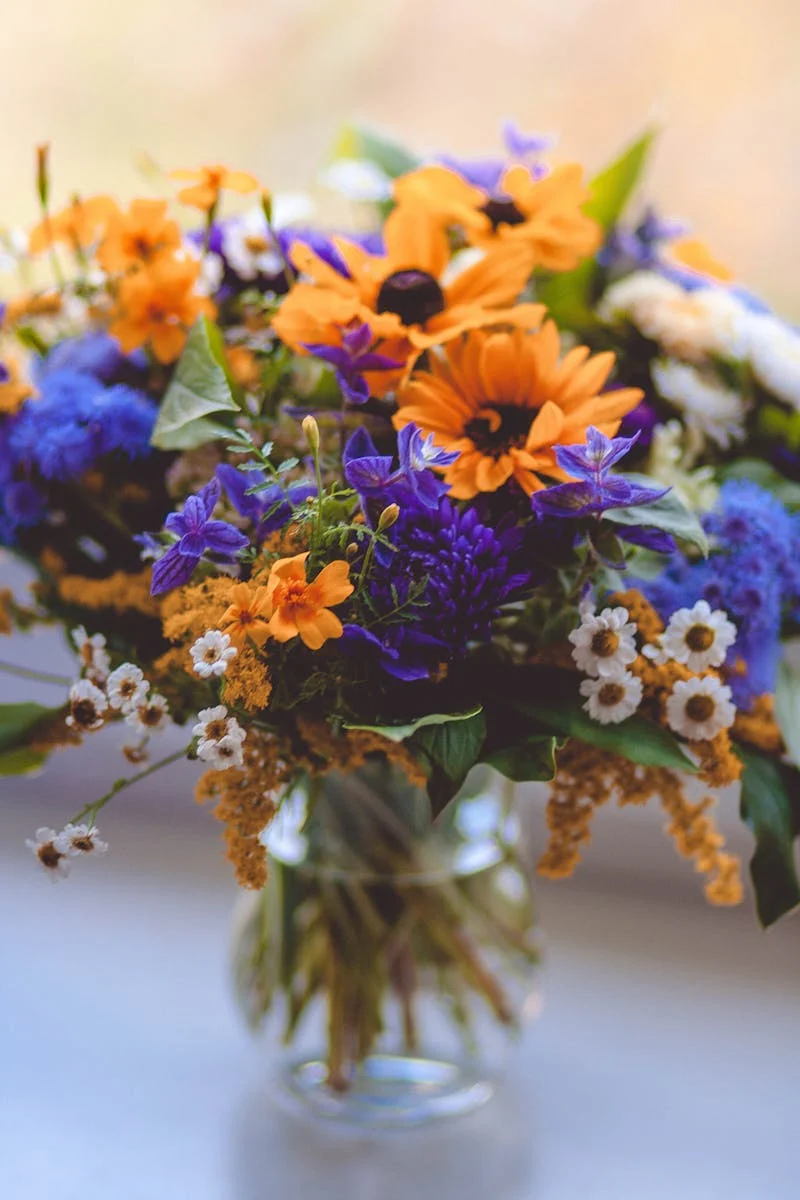Orange: (404, 326, 644, 497), (286, 203, 535, 335), (396, 162, 599, 264), (261, 555, 352, 650)
White: (660, 680, 738, 737), (576, 668, 644, 730), (571, 607, 635, 671), (665, 604, 733, 662), (104, 655, 144, 716), (23, 821, 60, 880), (60, 821, 106, 867), (192, 707, 245, 746), (190, 632, 236, 675), (201, 739, 247, 774)
